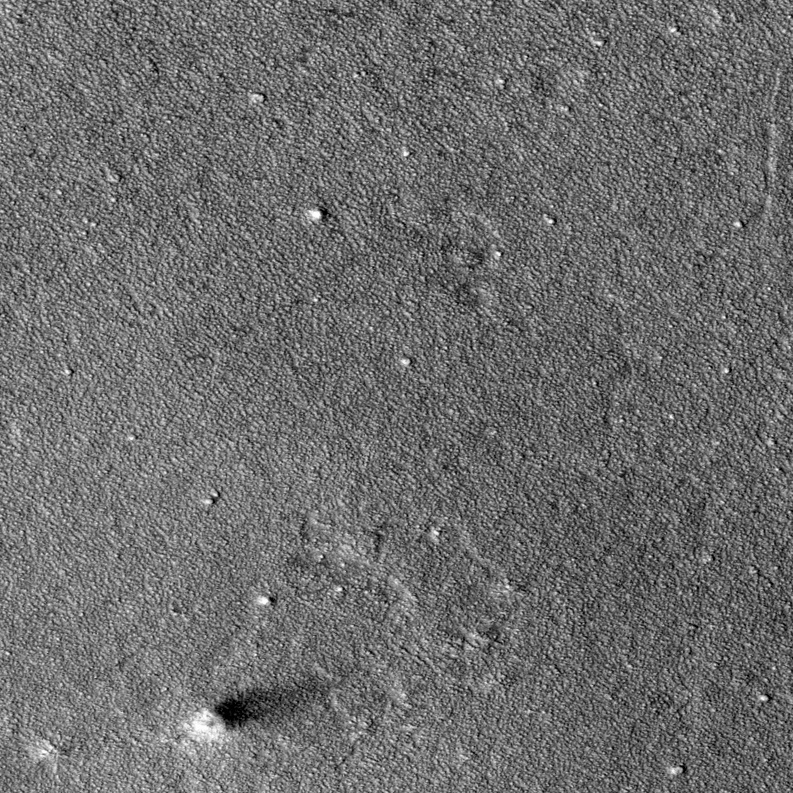dust_devil: (183, 672, 333, 746)
